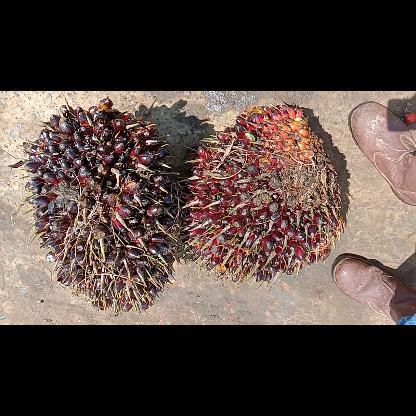TBS mentah: (13, 96, 180, 314), (177, 102, 343, 282)
